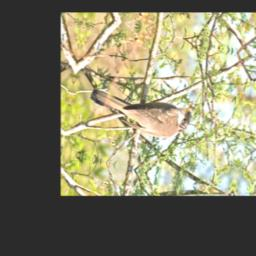Cuckoo: (86, 75, 194, 145)
